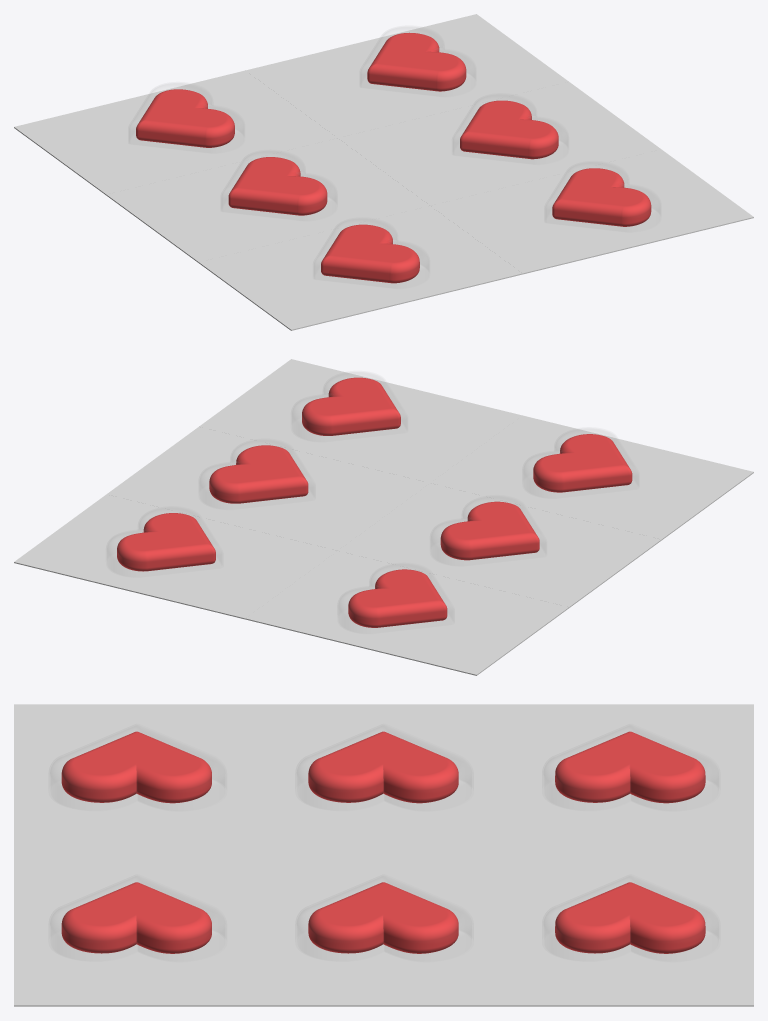
File: Heart_Pill_2x3_Red.glb
3 views of the same model, one above another, from view 1: azimuth 30°, elevation 25°; view 2: azimuth 150°, elevation 25°; view 3: azimuth 270°, elevation 25° (orthographic). The views are drawn at different scales.
Visible parts, largest first — view 1: Heart_Pill_Base_2x3, Heart_Pill_2x3, Heart_Pill_Shell_2x3, Heart_Pill_Lid_2x3; view 2: Heart_Pill_Base_2x3, Heart_Pill_2x3, Heart_Pill_Shell_2x3, Heart_Pill_Lid_2x3; view 3: Heart_Pill_Base_2x3, Heart_Pill_2x3, Heart_Pill_Lid_2x3, Heart_Pill_Shell_2x3.
Part boxes in pixels (box(x1,y1,x2,y2)): Heart_Pill_Base_2x3: box(14, 14, 753, 330); Heart_Pill_2x3: box(136, 32, 651, 283); Heart_Pill_Shell_2x3: box(129, 26, 660, 277); Heart_Pill_Lid_2x3: box(128, 51, 661, 289); Heart_Pill_Base_2x3: box(14, 359, 753, 675); Heart_Pill_2x3: box(117, 377, 632, 627); Heart_Pill_Shell_2x3: box(107, 372, 638, 621); Heart_Pill_Lid_2x3: box(106, 397, 639, 634); Heart_Pill_Base_2x3: box(14, 704, 753, 1006); Heart_Pill_2x3: box(61, 731, 705, 953); Heart_Pill_Lid_2x3: box(48, 779, 720, 962); Heart_Pill_Shell_2x3: box(50, 725, 718, 939).
Size of the model in its own units: 6.8 by 0.336 by 7.06.
